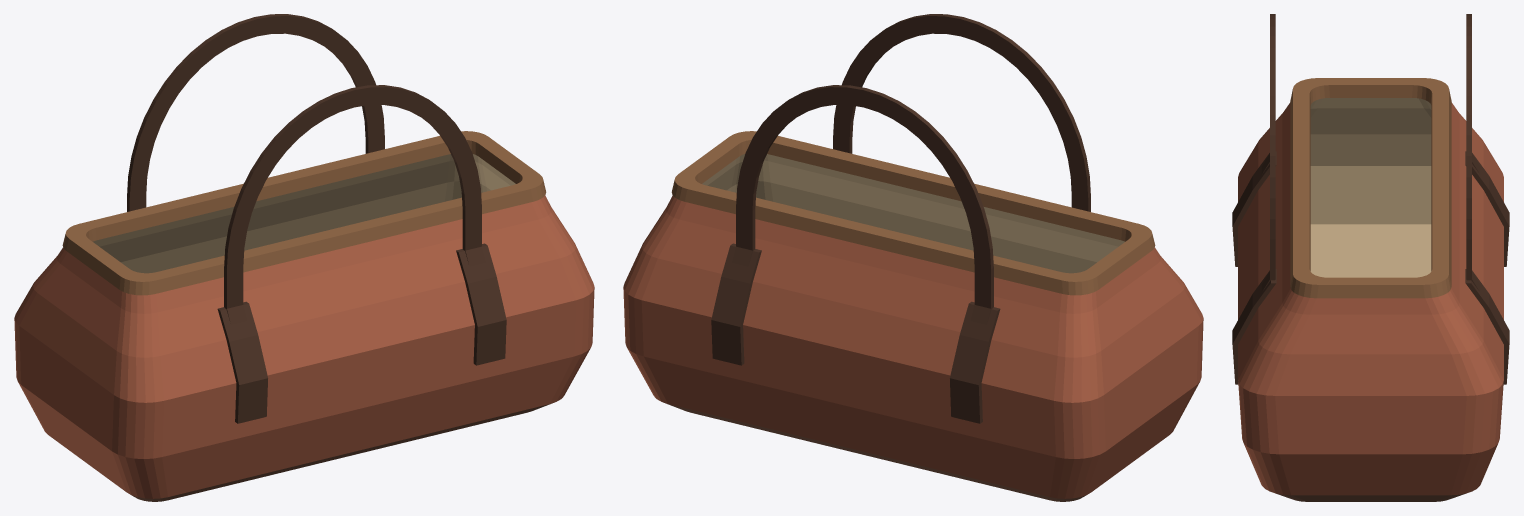
3 renders of one model, left to right at view 1: azimuth 30°, elevation 25°; view 2: azimuth 150°, elevation 25°; view 3: azimuth 270°, elevation 25°, orthographic.
Visible parts, largest first — view 1: Body_SoftOpenMainChamber, Mouth_FixedContinuousBinding, Handle_FrontCarryLoop, Handle_BackCarryLoop, Anchor_FrontRight, Anchor_FrontLeft; view 2: Body_SoftOpenMainChamber, Mouth_FixedContinuousBinding, Handle_BackCarryLoop, Handle_FrontCarryLoop, Anchor_BackRight, Anchor_BackLeft; view 3: Body_SoftOpenMainChamber, Mouth_FixedContinuousBinding, Handle_BackCarryLoop, Handle_FrontCarryLoop, Anchor_BackRight, Anchor_FrontRight, Anchor_BackLeft, Anchor_FrontLeft.
Boxes of the visible parts, x1,y1,x2,y2 form: Body_SoftOpenMainChamber: [14, 154, 594, 501]; Mouth_FixedContinuousBinding: [62, 131, 546, 295]; Handle_FrontCarryLoop: [224, 85, 485, 324]; Handle_BackCarryLoop: [127, 14, 384, 211]; Anchor_FrontRight: [456, 243, 506, 365]; Anchor_FrontLeft: [217, 301, 267, 423]; Body_SoftOpenMainChamber: [623, 154, 1203, 501]; Mouth_FixedContinuousBinding: [671, 131, 1155, 295]; Handle_BackCarryLoop: [732, 85, 993, 324]; Handle_FrontCarryLoop: [833, 14, 1090, 211]; Anchor_BackRight: [711, 243, 761, 365]; Anchor_BackLeft: [950, 301, 1000, 423]; Body_SoftOpenMainChamber: [1238, 98, 1503, 501]; Mouth_FixedContinuousBinding: [1290, 78, 1451, 298]; Handle_BackCarryLoop: [1466, 14, 1480, 291]; Handle_FrontCarryLoop: [1261, 14, 1275, 291]; Anchor_BackRight: [1465, 269, 1509, 384]; Anchor_FrontRight: [1232, 269, 1276, 384]; Anchor_BackLeft: [1465, 151, 1509, 266]; Anchor_FrontLeft: [1232, 151, 1276, 266].
Bounding box in the file's own units: 0.69 × 0.515 × 0.344.
